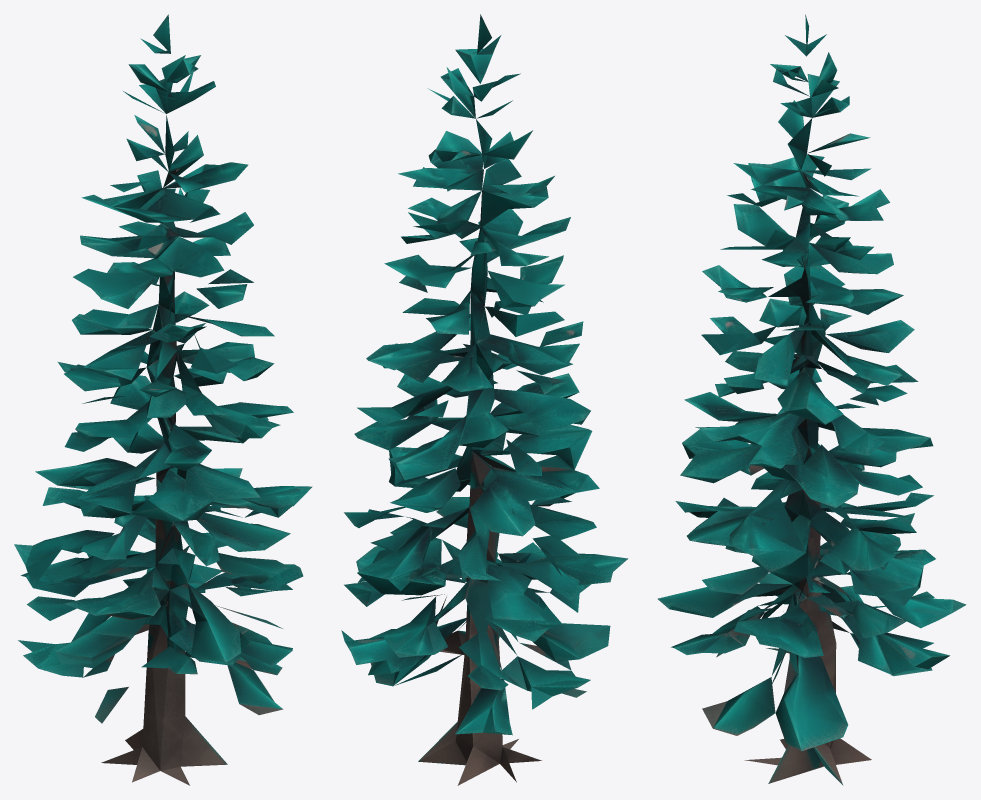
Rendered from pine.glb.
3 views of the same model, side by side, from view 1: azimuth 30°, elevation 25°; view 2: azimuth 150°, elevation 25°; view 3: azimuth 270°, elevation 25° (orthographic).
Bounding box in the file's own units: 0.6321 × 1.83 × 0.683.
Materials: 1 (1 with a texture image).
